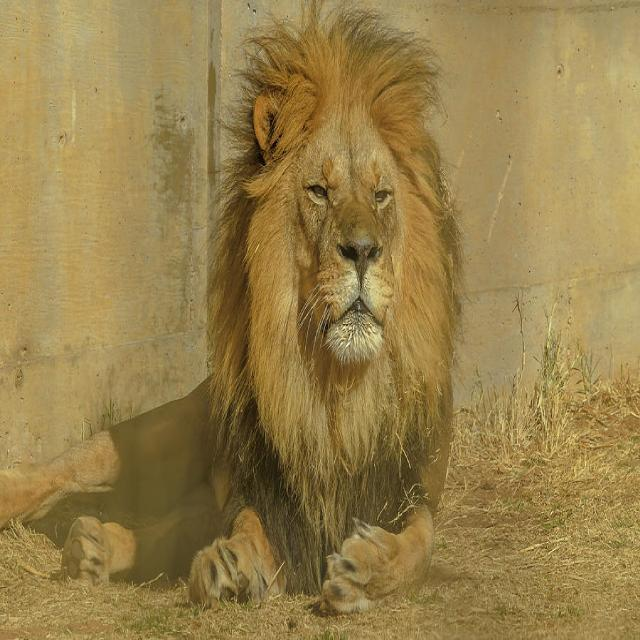lions: (0, 7, 640, 635)
